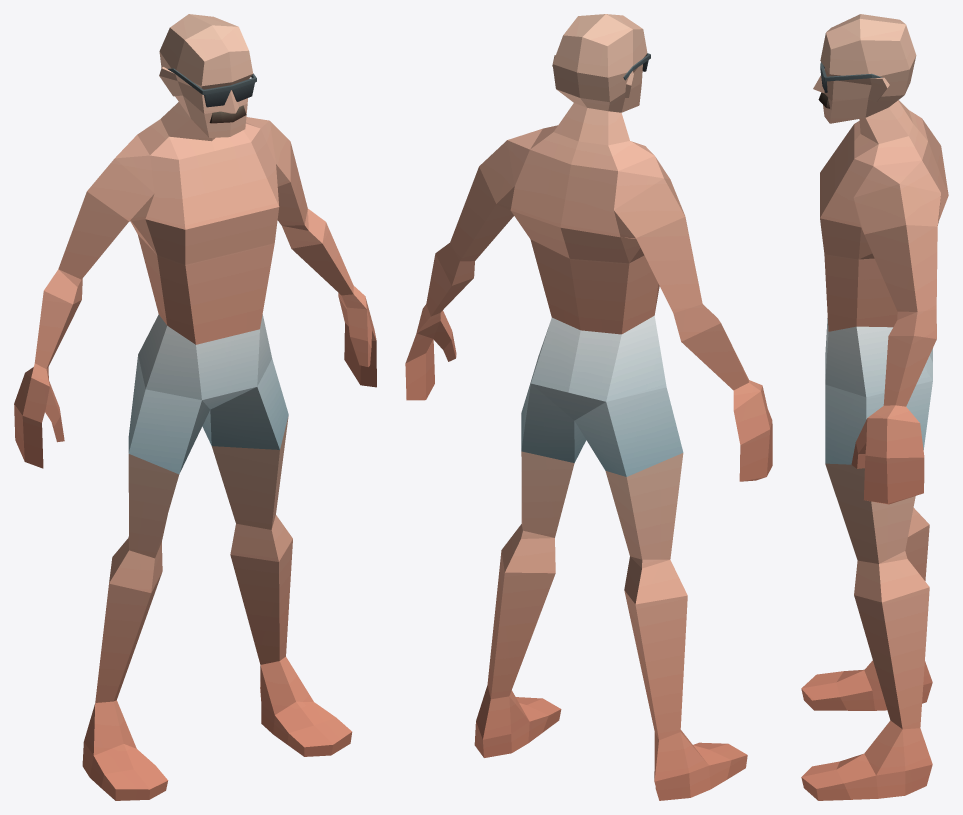
The model's file is Roelosaurus.fbx.
3 views of the same model, side by side, from view 1: azimuth 30°, elevation 25°; view 2: azimuth 150°, elevation 25°; view 3: azimuth 270°, elevation 25° (orthographic). The views are drawn at different scales.
Visible parts, largest first — view 1: Duder, Glasses; view 2: Duder; view 3: Duder, Glasses.
Part boxes in pixels (x1,y1,x2,y2): Duder: [14, 14, 376, 800]; Glasses: [168, 68, 256, 107]; Duder: [405, 14, 772, 800]; Duder: [801, 14, 948, 800]; Glasses: [820, 62, 885, 92].
Bounding box in the file's own units: 96.36 × 191 × 35.26.
1 material, 1 textured.
